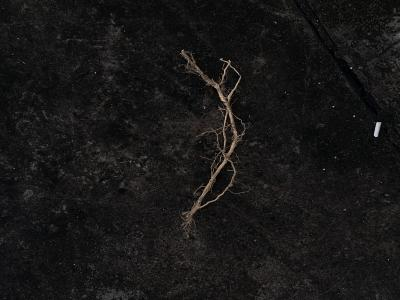Root: (181, 50, 245, 232)
